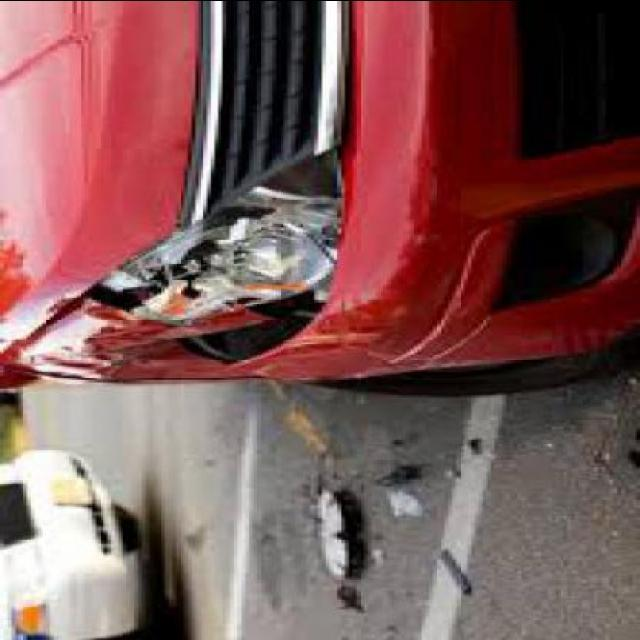Headlight-Damage: (85, 161, 369, 365)
